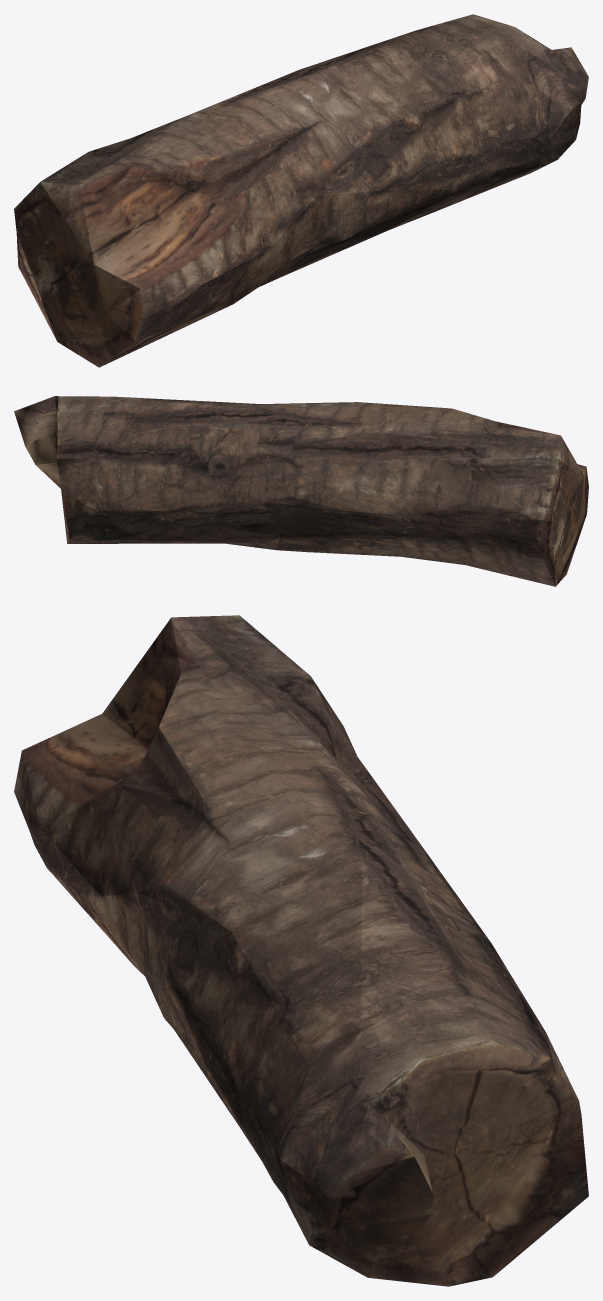
The model's file is log02.fbx.
The picture shows the model from 3 angles, top to bottom: view 1: azimuth 30°, elevation 25°; view 2: azimuth 150°, elevation 25°; view 3: azimuth 270°, elevation 25°; orthographic projection. The views are drawn at different scales.
Parts seen in each view (by area): view 1: log02; view 2: log02; view 3: log02.
Boxes of the visible parts, left/top/right/bottom form: log02: left=14, top=14, right=588, bottom=367; log02: left=14, top=396, right=588, bottom=586; log02: left=14, top=615, right=588, bottom=1286.
Bounding box in the file's own units: 18.15 × 5.26 × 9.39.
